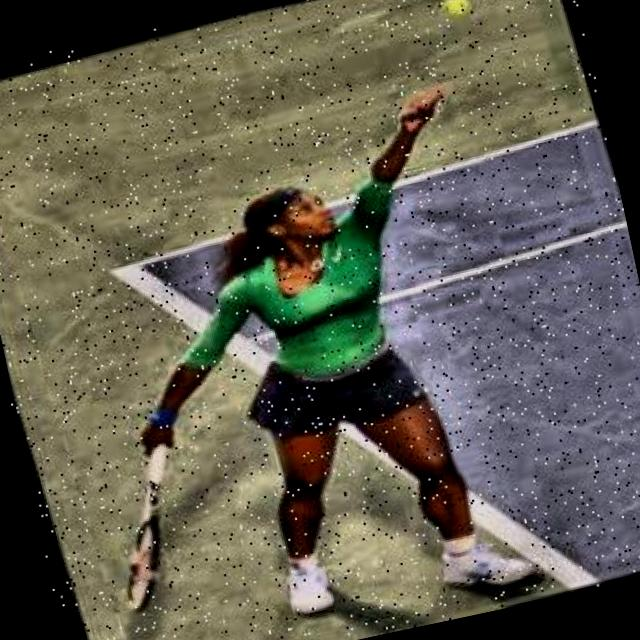tennis-ball: (440, 0, 469, 16)
